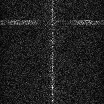wifi: (1, 19, 104, 26)
